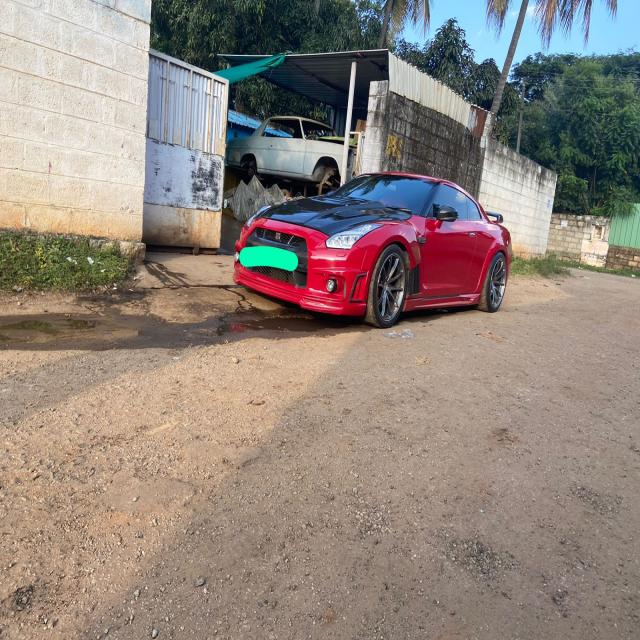red: (233, 140, 534, 348)
